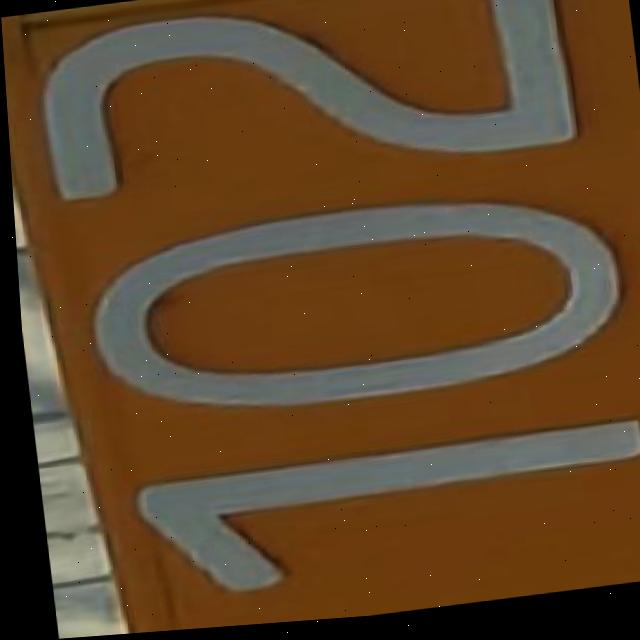character: (73, 168, 640, 439), (21, 0, 584, 211), (121, 407, 640, 614)
